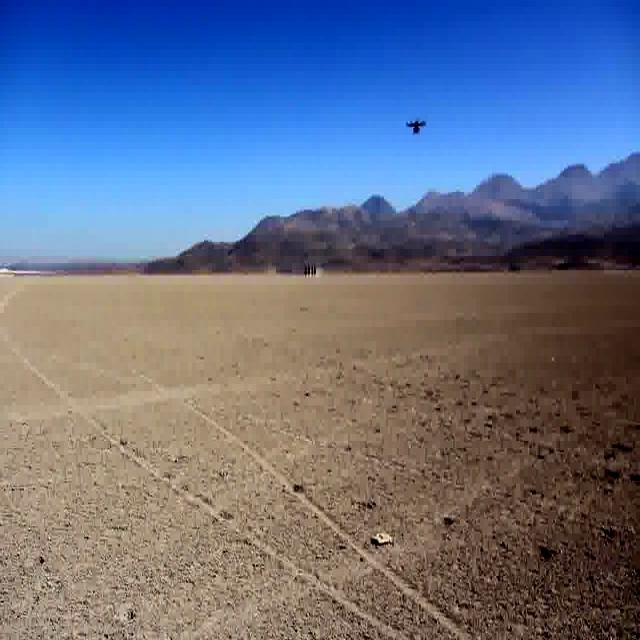drone: (407, 112, 427, 142)
